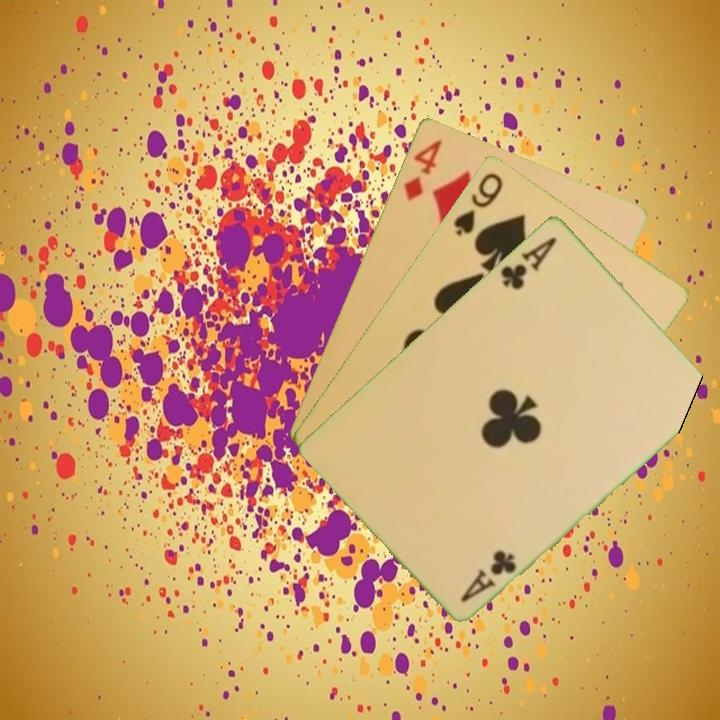4d: (400, 135, 445, 204)
9s: (449, 168, 506, 239)
Ac: (497, 232, 560, 293), (456, 545, 520, 605)
